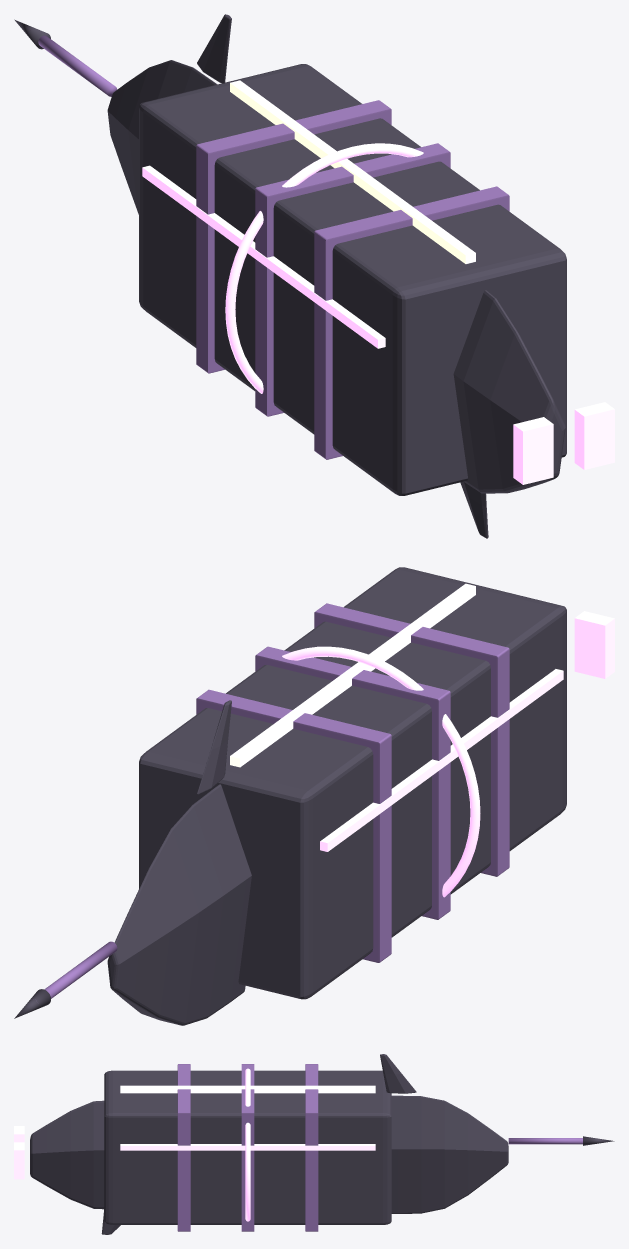
The model's file is ezrathi-freighter.glb.
3 renders of one model, top to bottom at view 1: azimuth 30°, elevation 25°; view 2: azimuth 150°, elevation 25°; view 3: azimuth 270°, elevation 25°, orthographic. The views are drawn at different scales.
Parts seen in each view (by area): view 1: Cube.001, hull.001, Cube.004, Cube.002, Cube.003, hull, Cube.005, Cube.006, Torus, Cube.008, Cube.009, fin (+2 smaller); view 2: Cube.001, hull, Cube.004, Cube.002, Cube.003, Cube.005, Cube.006, Torus, Cube.008, fin, Cylinder; view 3: Cube.001, hull, hull.001, Cube.002, Cube.004, Cube.005, Cube.003, Cube.007, Torus, fin, Cylinder, Cube.009.
Part boxes in pixels (x1,y1,x2,y2): Cube.001: (139, 64, 566, 495); hull.001: (453, 290, 565, 493); Cube.004: (314, 186, 509, 459); Cube.002: (196, 100, 391, 373); Cube.003: (255, 143, 450, 416); hull: (107, 60, 216, 214); Cube.005: (230, 80, 475, 263); Cube.006: (142, 165, 385, 348); Torus: (225, 143, 423, 393); Cube.008: (513, 417, 553, 484); Cube.009: (574, 402, 614, 469); fin: (197, 14, 231, 83); Cube.001: (139, 567, 566, 999); hull: (107, 784, 251, 1025); Cube.004: (314, 603, 509, 876); Cube.002: (196, 689, 391, 962); Cube.003: (255, 646, 450, 919); Cube.005: (230, 583, 475, 767); Cube.006: (320, 669, 563, 851); Torus: (282, 646, 480, 897); Cube.008: (574, 611, 614, 678); fin: (197, 700, 231, 794); Cylinder: (44, 941, 117, 998); Cube.001: (104, 1070, 391, 1224); hull: (391, 1095, 508, 1213); hull.001: (30, 1100, 104, 1209); Cube.002: (305, 1064, 318, 1231); Cube.004: (177, 1064, 190, 1231); Cube.005: (120, 1085, 375, 1093); Cube.003: (241, 1064, 254, 1231); Cube.007: (120, 1144, 375, 1150); Torus: (245, 1068, 250, 1221); fin: (380, 1054, 416, 1093); Cylinder: (508, 1138, 582, 1144); Cube.009: (14, 1142, 24, 1179).
Size of the model in its own units: 1.49 by 1.87 by 5.65.
